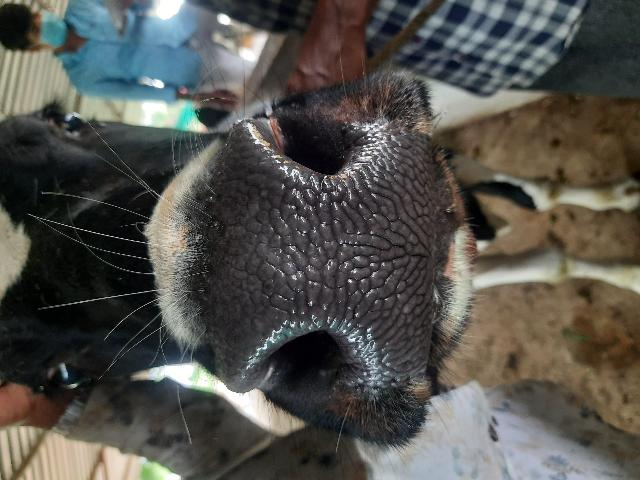Muzzle: (210, 170, 446, 330)
